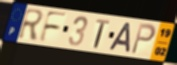3: (68, 15, 89, 47)
A: (108, 21, 133, 54)
F: (37, 10, 69, 44)
P: (130, 22, 157, 57)
R: (16, 7, 46, 42)
T: (93, 18, 111, 50)
